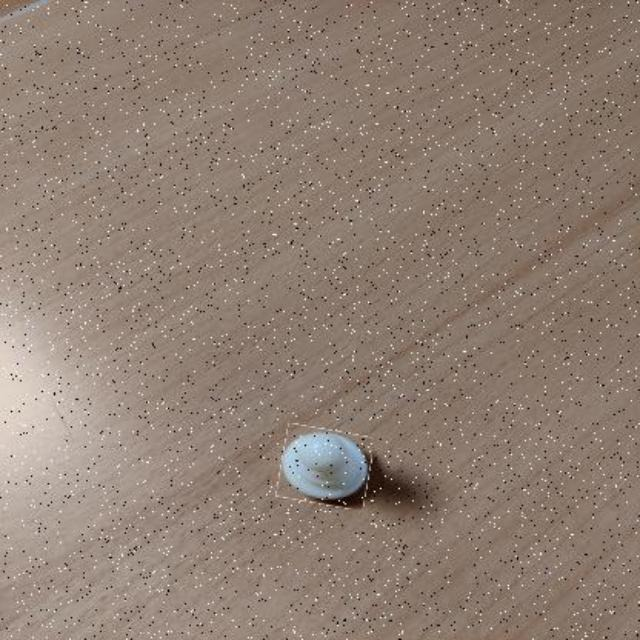white-pawn: (278, 428, 371, 508)
